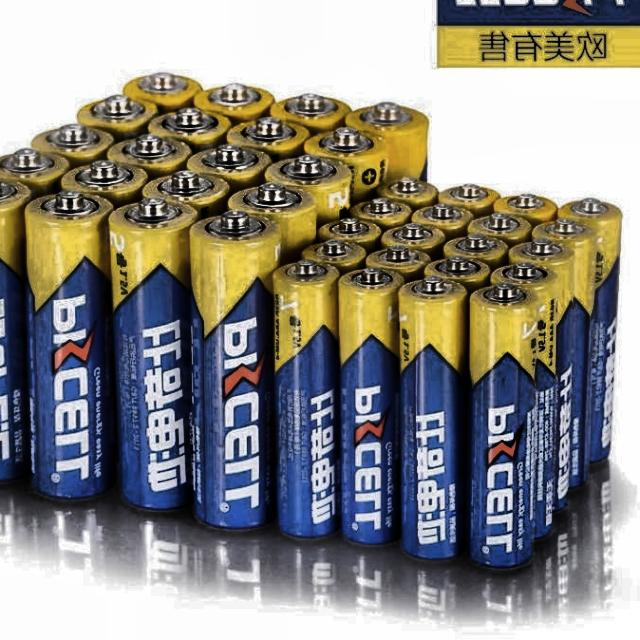Non-Valuable Waste - Batteries: (190, 210, 280, 528), (24, 190, 115, 499), (109, 197, 198, 510), (468, 284, 538, 567), (399, 277, 468, 560), (273, 260, 340, 537), (490, 263, 557, 538), (508, 238, 574, 511), (339, 267, 404, 544), (533, 218, 596, 487), (559, 197, 622, 461), (0, 178, 31, 479), (227, 182, 316, 262), (346, 101, 429, 180), (304, 126, 389, 202), (265, 154, 351, 225), (144, 170, 230, 218), (61, 160, 148, 206), (189, 143, 272, 191), (106, 133, 193, 177), (77, 94, 158, 140), (148, 107, 232, 151), (31, 124, 115, 166), (227, 117, 310, 159), (0, 149, 70, 197), (194, 83, 275, 123), (271, 93, 350, 134), (124, 72, 201, 113), (425, 254, 492, 293), (367, 245, 431, 282), (301, 239, 367, 273), (318, 217, 382, 252), (443, 234, 508, 268), (411, 203, 474, 238), (437, 183, 500, 217), (493, 193, 557, 226), (467, 213, 532, 245), (350, 197, 412, 230), (385, 222, 446, 255), (376, 177, 437, 209)
